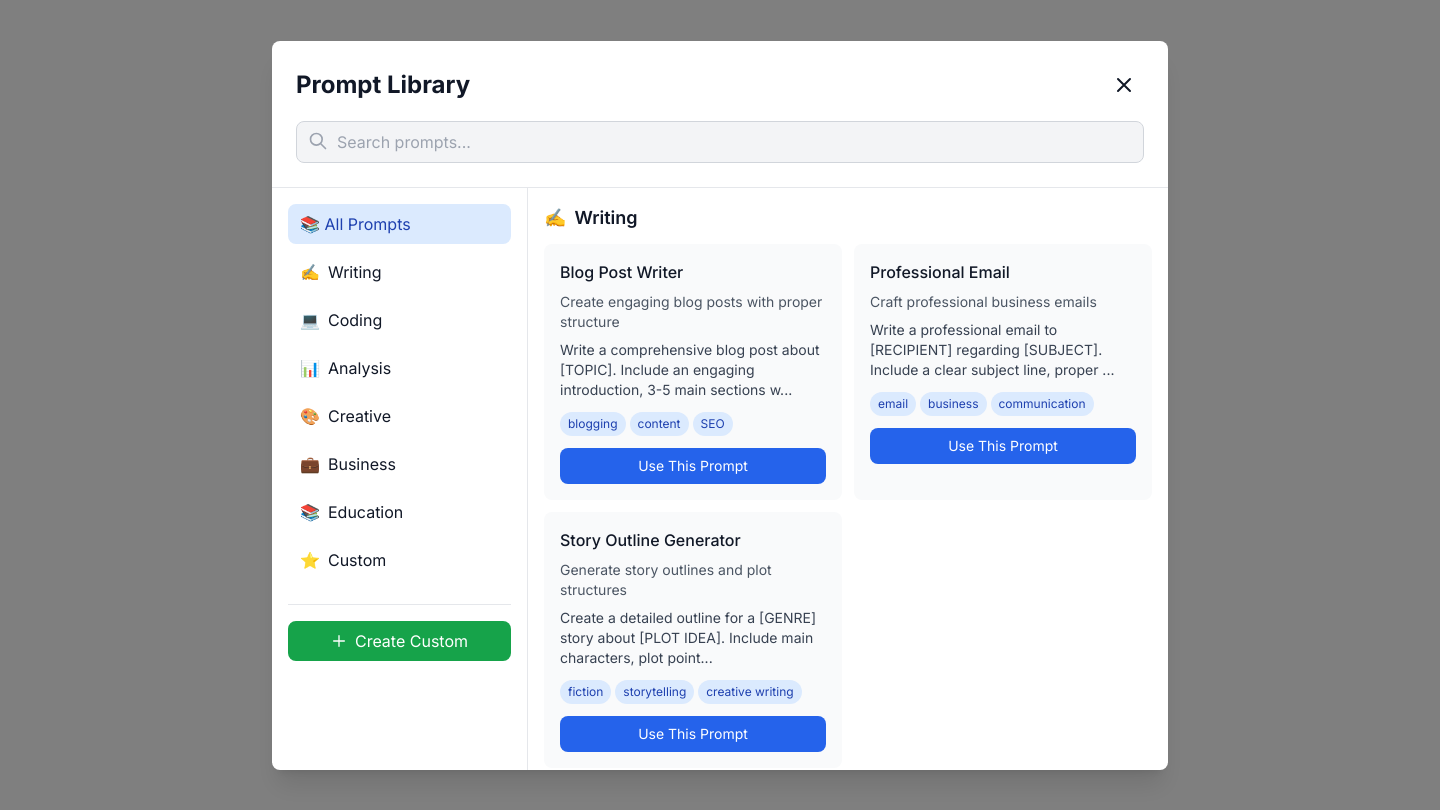
Test case: PromptLibrary › cancels creating prompt
Step 1. Click the button "Create Custom" → (400, 640), box [288,620,511,660]
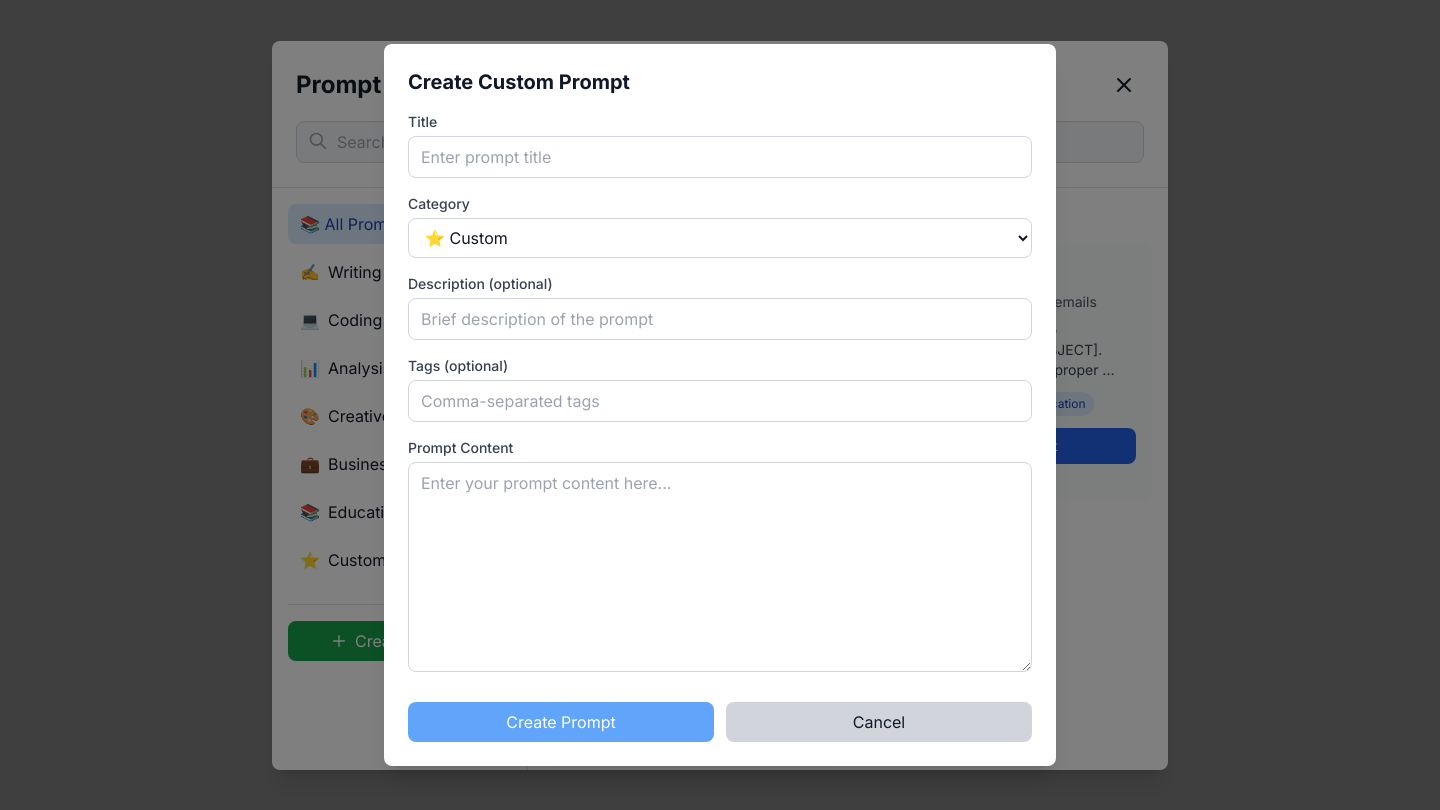
Step 2. Click the button "Cancel" → (879, 722), box [726,702,1032,742]
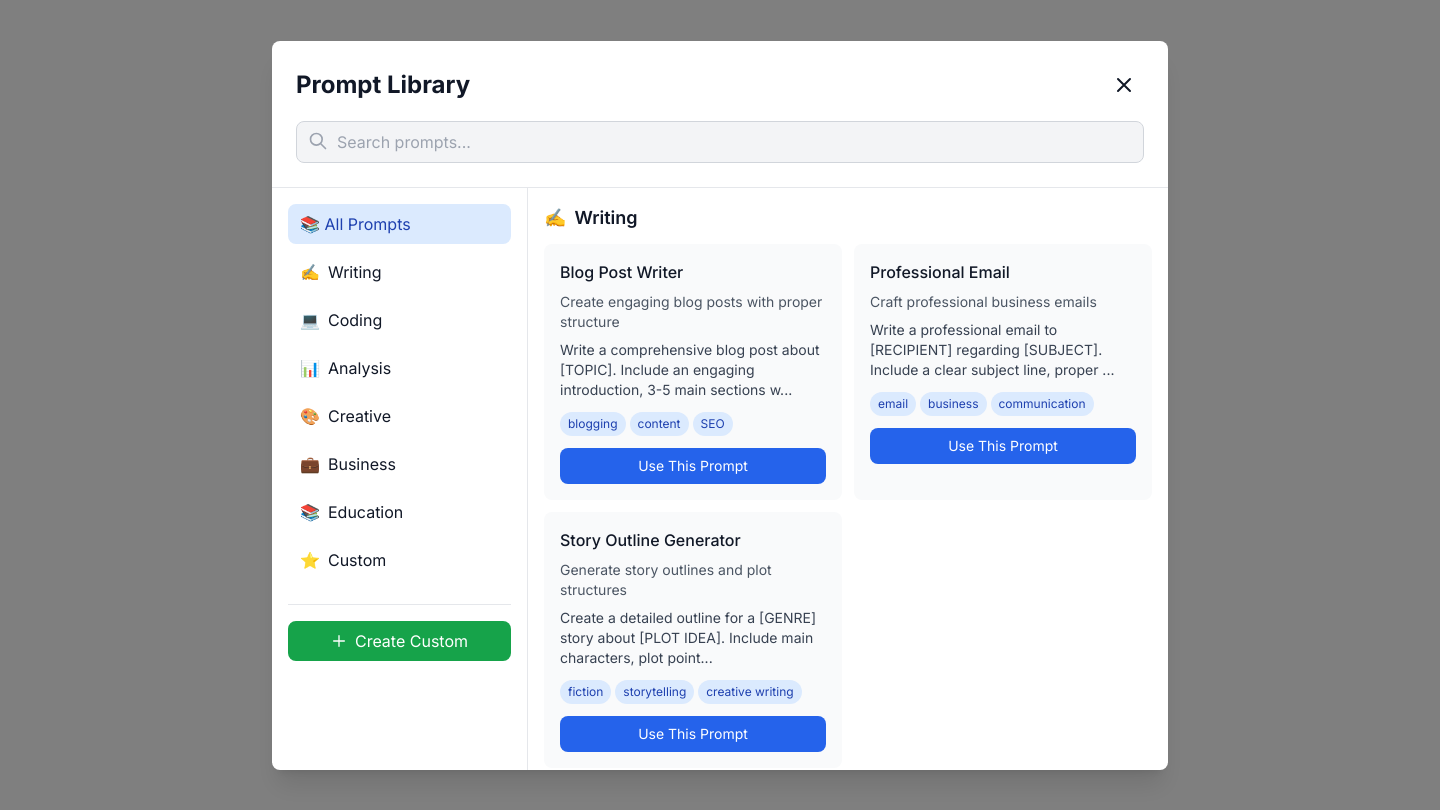
Expected: the heading "Create Custom Prompt" is gone
